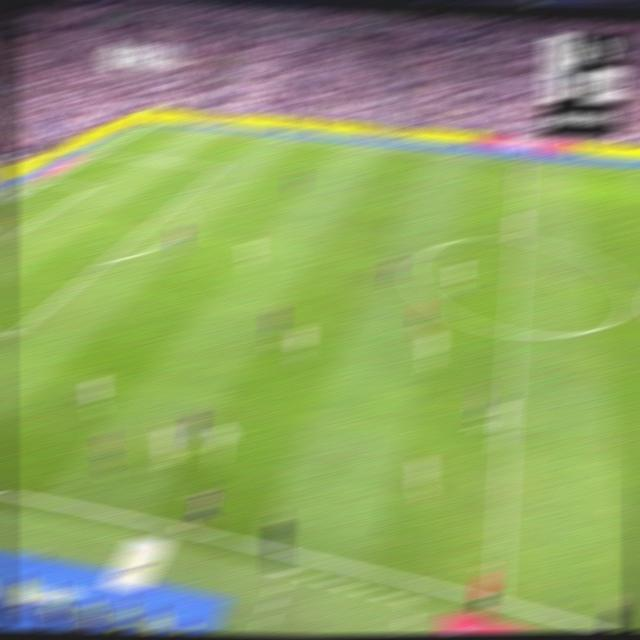bigarea_bottom_inner: (1, 325, 21, 344)
bigarea_top_inner: (212, 162, 227, 172)
bigarea_top_outter: (92, 147, 107, 156)
bottom_arc_area_intersection: (97, 254, 114, 266)
halfcircle_bottom: (502, 322, 522, 342)
halfcircle_top: (509, 230, 528, 246)
midline_bottom_intersection: (485, 591, 509, 610)
midline_top_intersection: (515, 156, 530, 167)
smallarea_top_inner: (83, 183, 97, 190)
top_arc_area_intersection: (168, 197, 182, 207)
